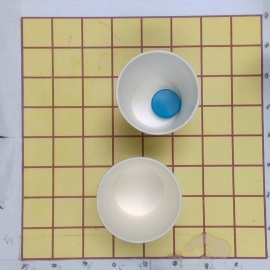cup: (97, 157, 184, 244)
cup_blue: (116, 50, 201, 139)
